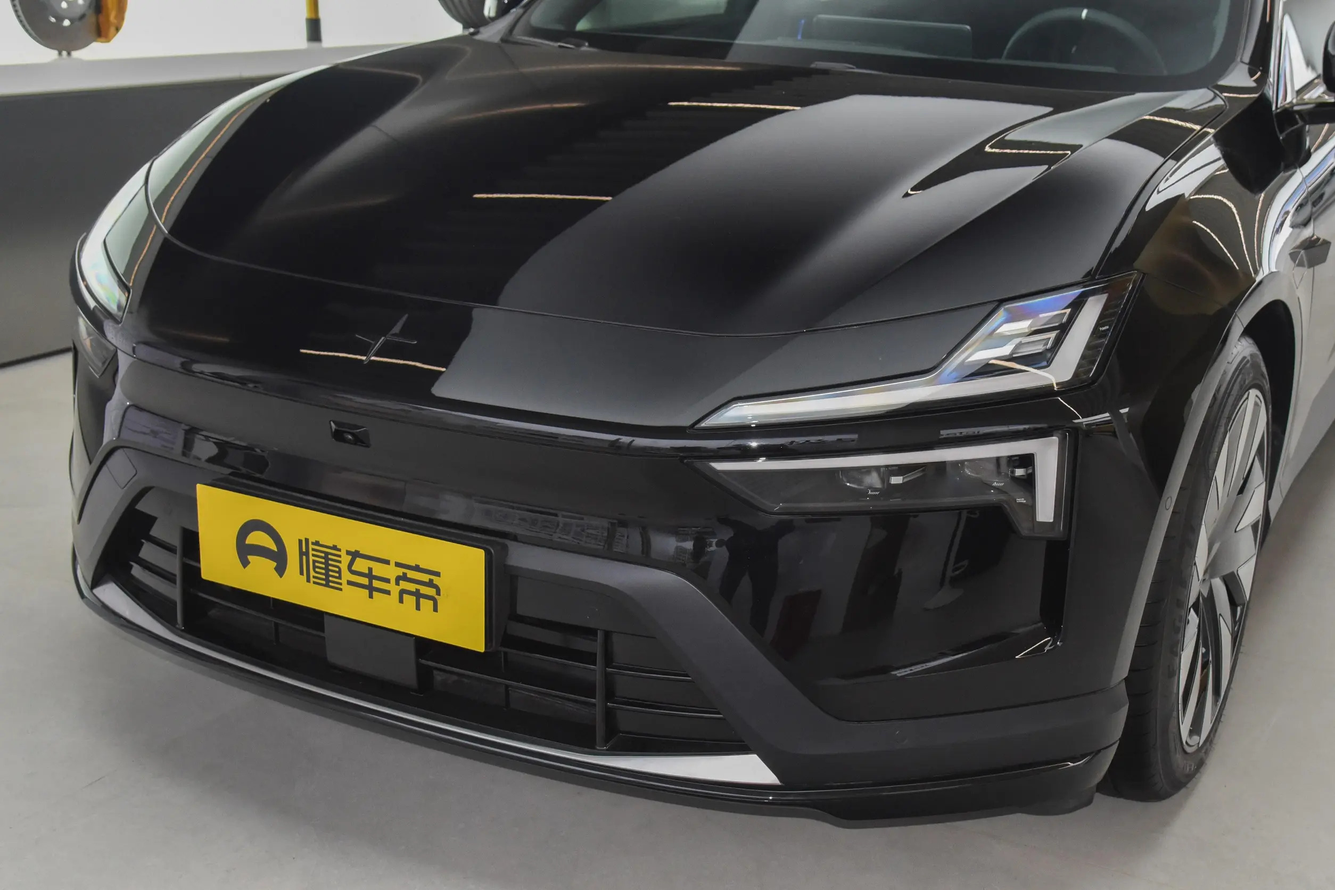Polestar: (357, 315, 416, 363)
